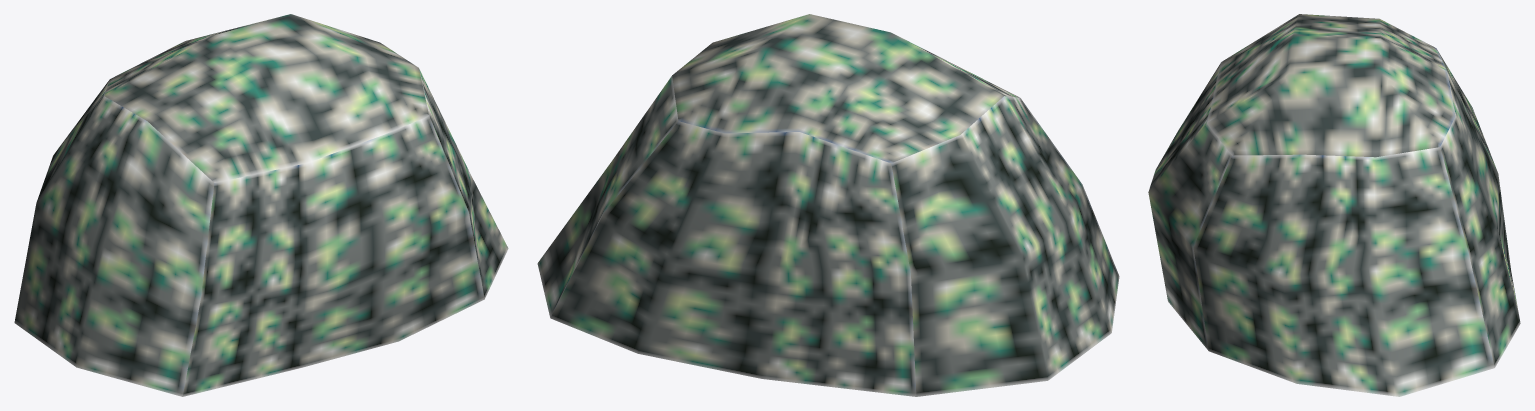
The model's file is small_mossy_Rock.fbx.
3 renders of one model, left to right at view 1: azimuth 30°, elevation 25°; view 2: azimuth 150°, elevation 25°; view 3: azimuth 270°, elevation 25°, orthographic. The views are drawn at different scales.
Visible parts, largest first — view 1: small_mossy_Rock; view 2: small_mossy_Rock; view 3: small_mossy_Rock.
Part boxes in pixels (left/top/right/bottom): small_mossy_Rock: left=14, top=14, right=508, bottom=396; small_mossy_Rock: left=537, top=14, right=1119, bottom=396; small_mossy_Rock: left=1148, top=14, right=1520, bottom=396.
Bounding box in the file's own units: 1.23 × 0.6074 × 0.8797.
